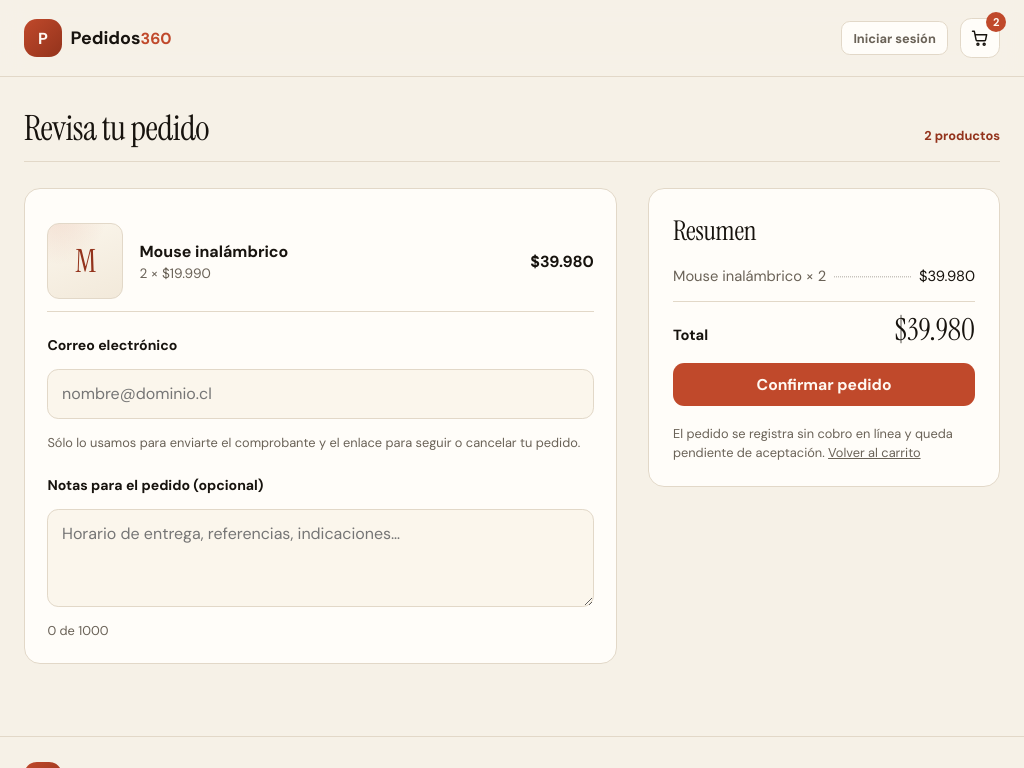
Scenario: CheckoutPage › muestra junto a cada campo los errores de validación del servidor
Type "lucia@duocuc.cl" into the field labelled "Correo electrónico". click: (321, 394)
box: [47, 369, 594, 419]
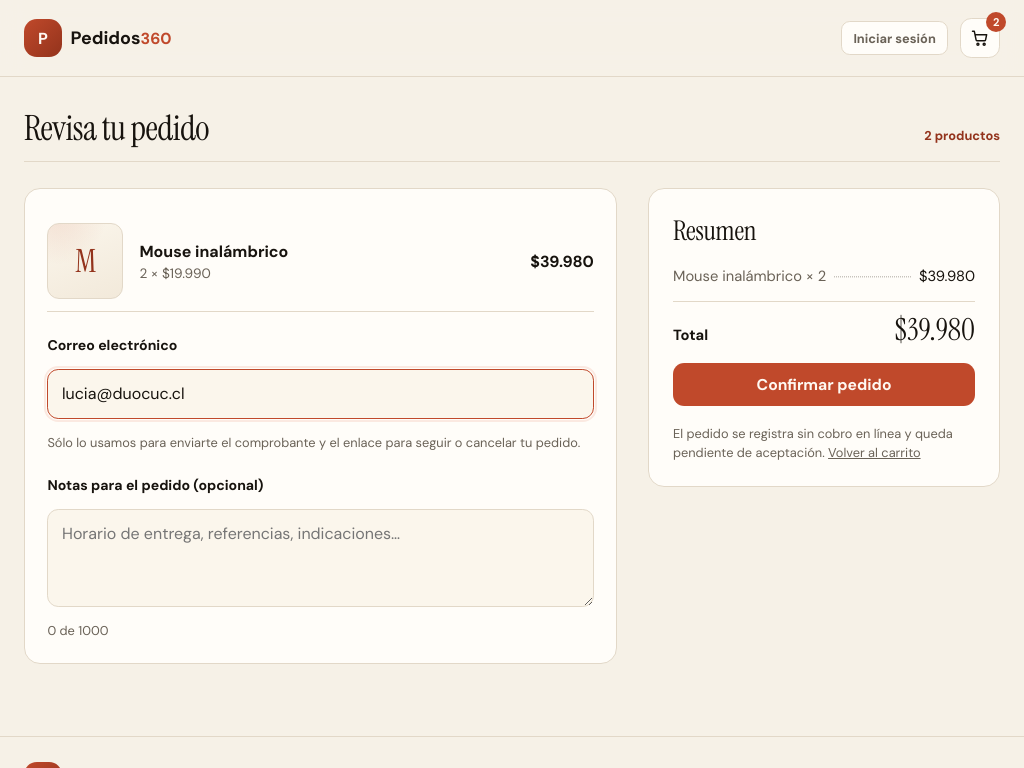
Click the button "Confirmar pedido". click: (824, 384)
box: [673, 363, 975, 406]
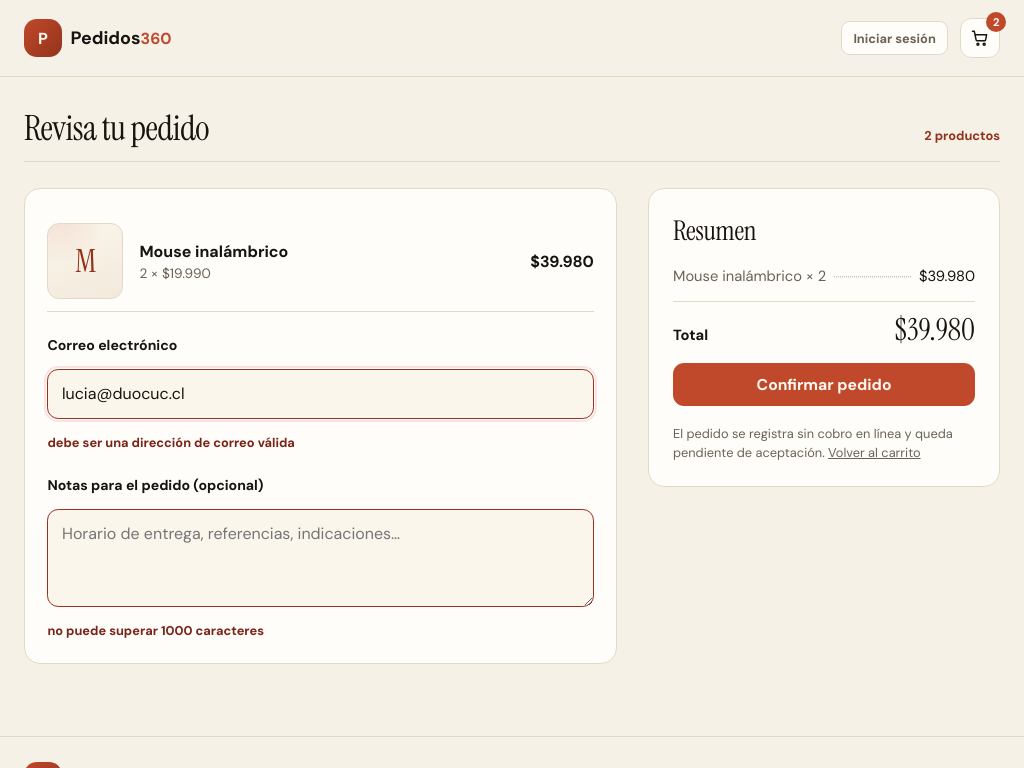
Check: the text "debe ser una dirección de correo válida" is shown, box [47, 434, 295, 451]
Check: the text "no puede superar 1000 caracteres" is shown, box [47, 622, 264, 639]
